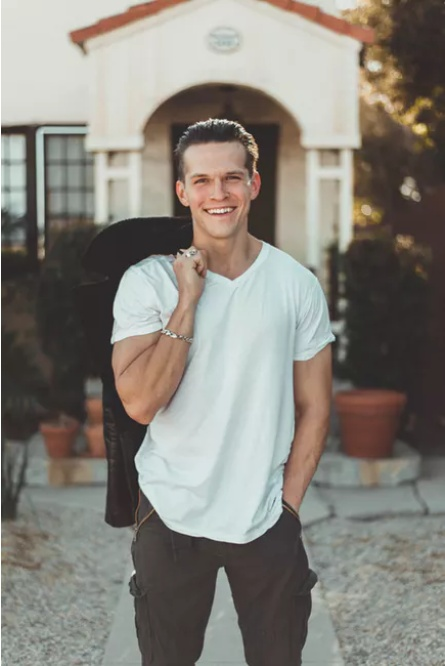face: (187, 143, 248, 235)
